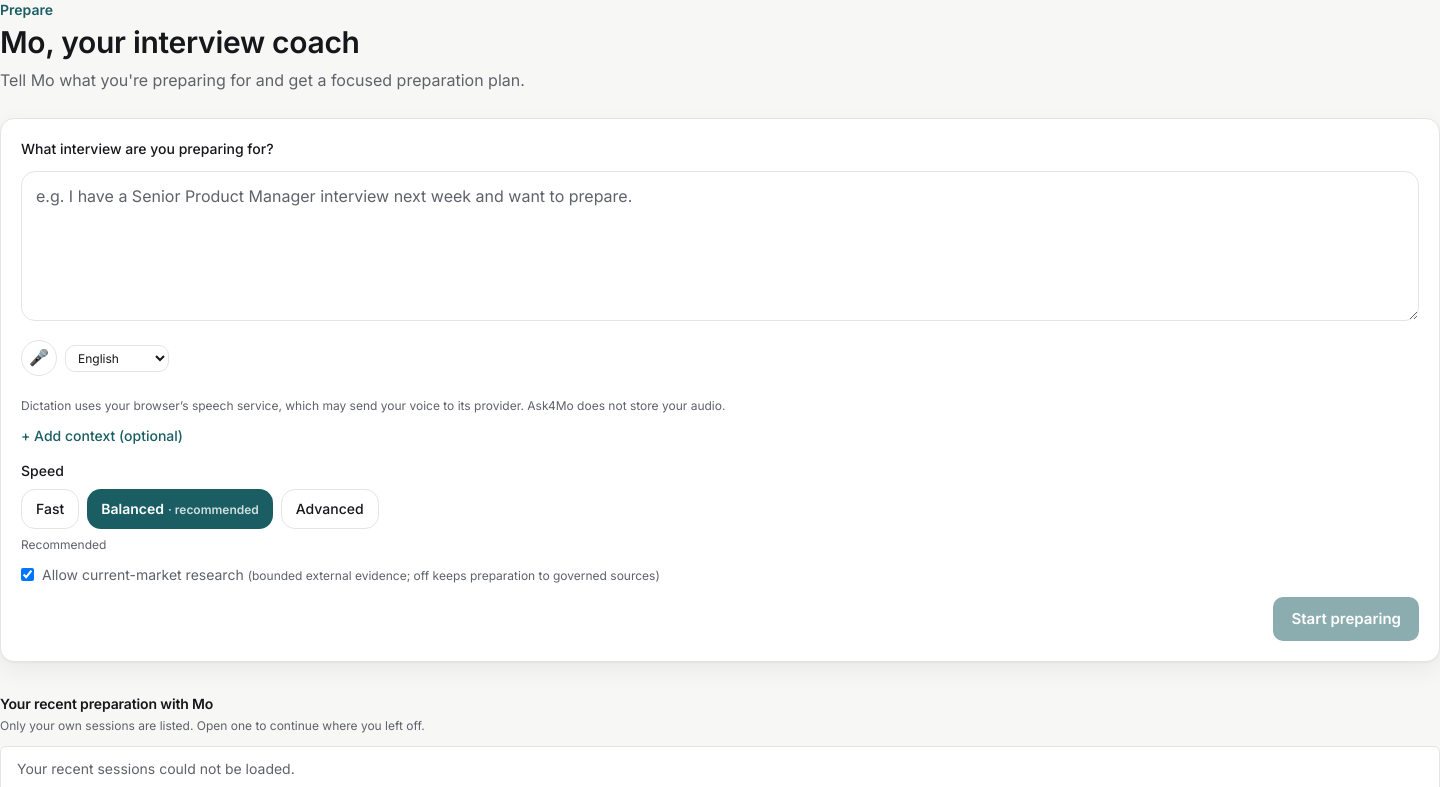
Test: Practice handoff completion › shows a busy label while the completion submits
In the text box labelled "What interview are you preparing for?": (720, 246) [21, 171, 1419, 321], type "Prep"
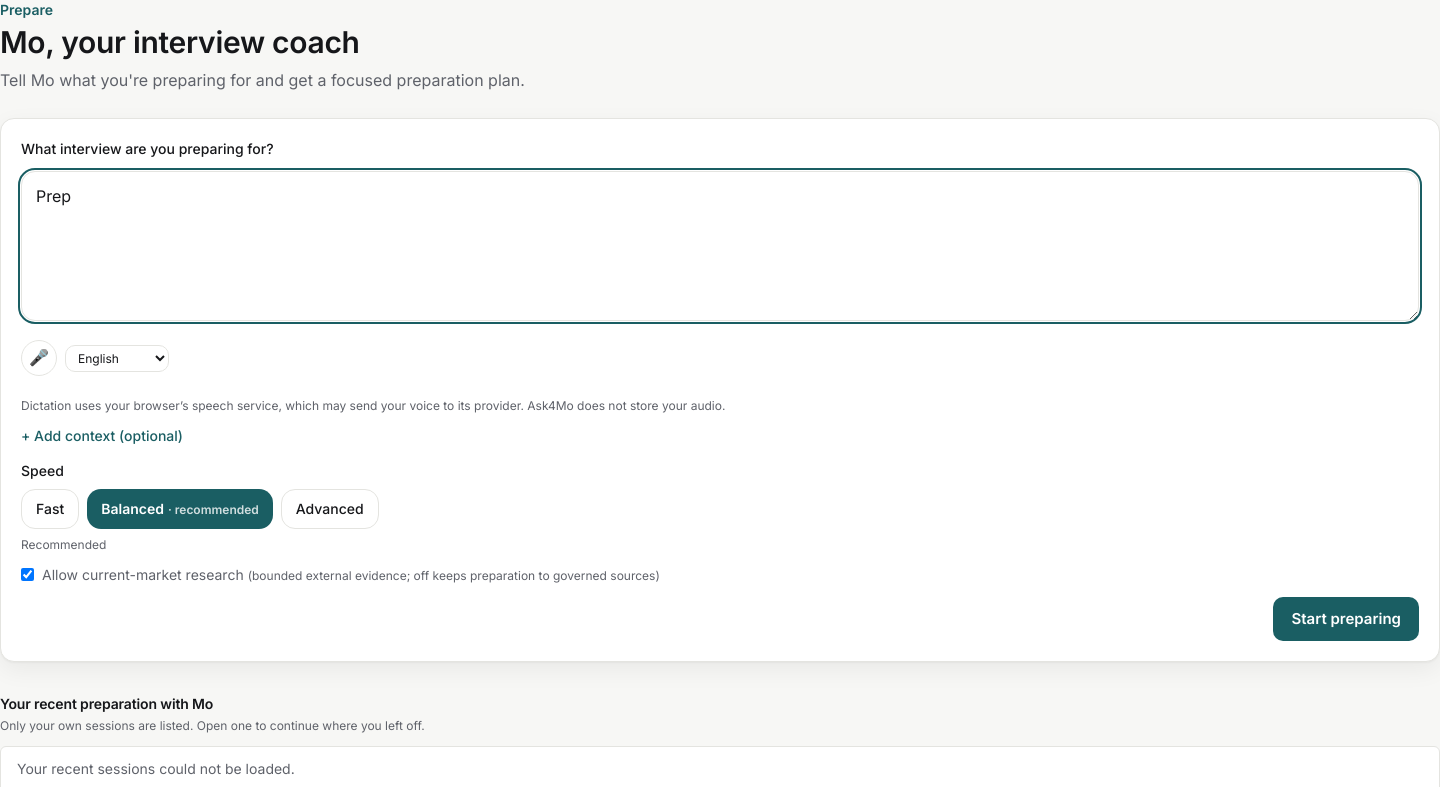
Click the button "Start preparing": (1346, 619) [1273, 597, 1419, 641]
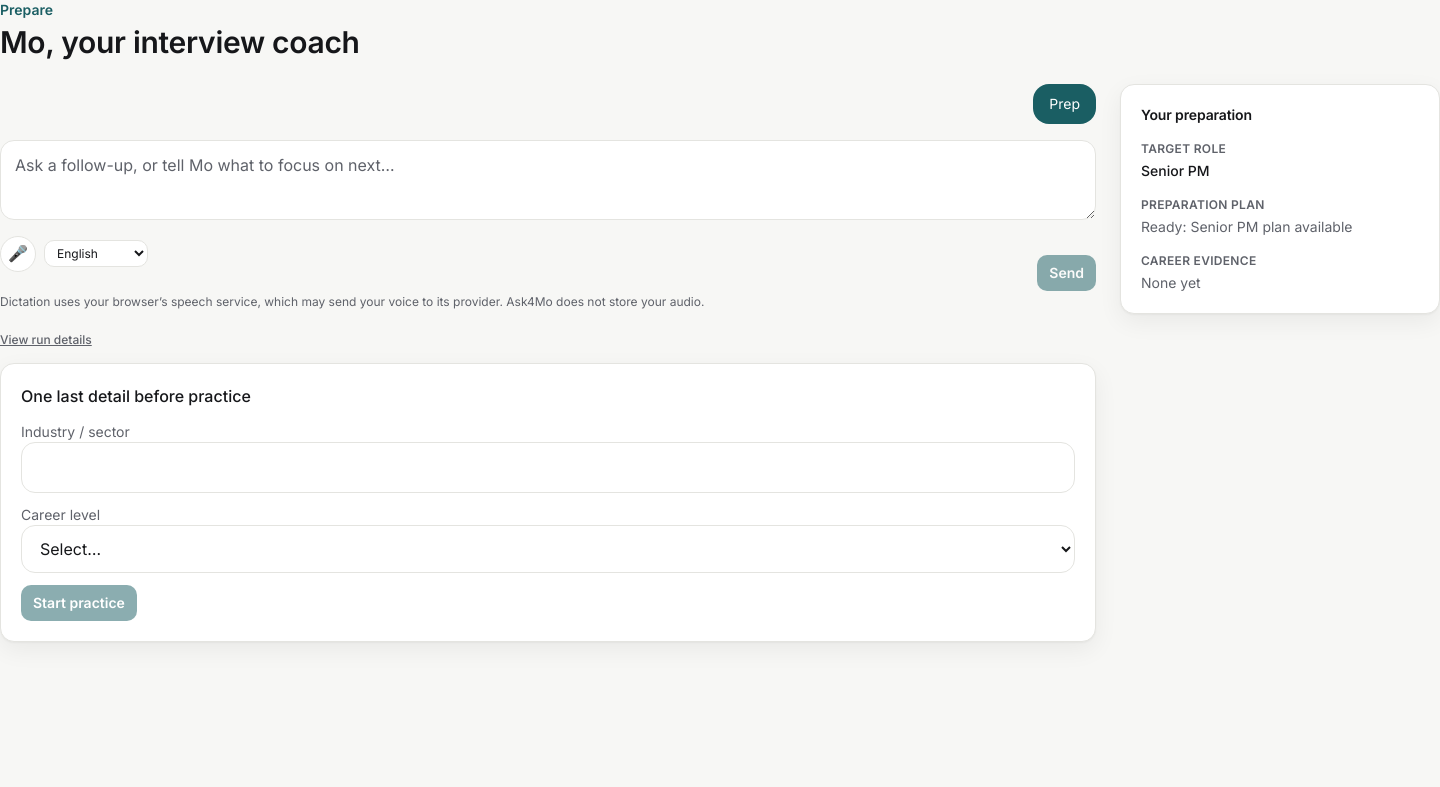
Expected: the text "One last detail before practice" is shown, [21, 386, 251, 406]
In the field labelled "Industry / sector": (548, 468) [21, 442, 1075, 493], type "Fashion"
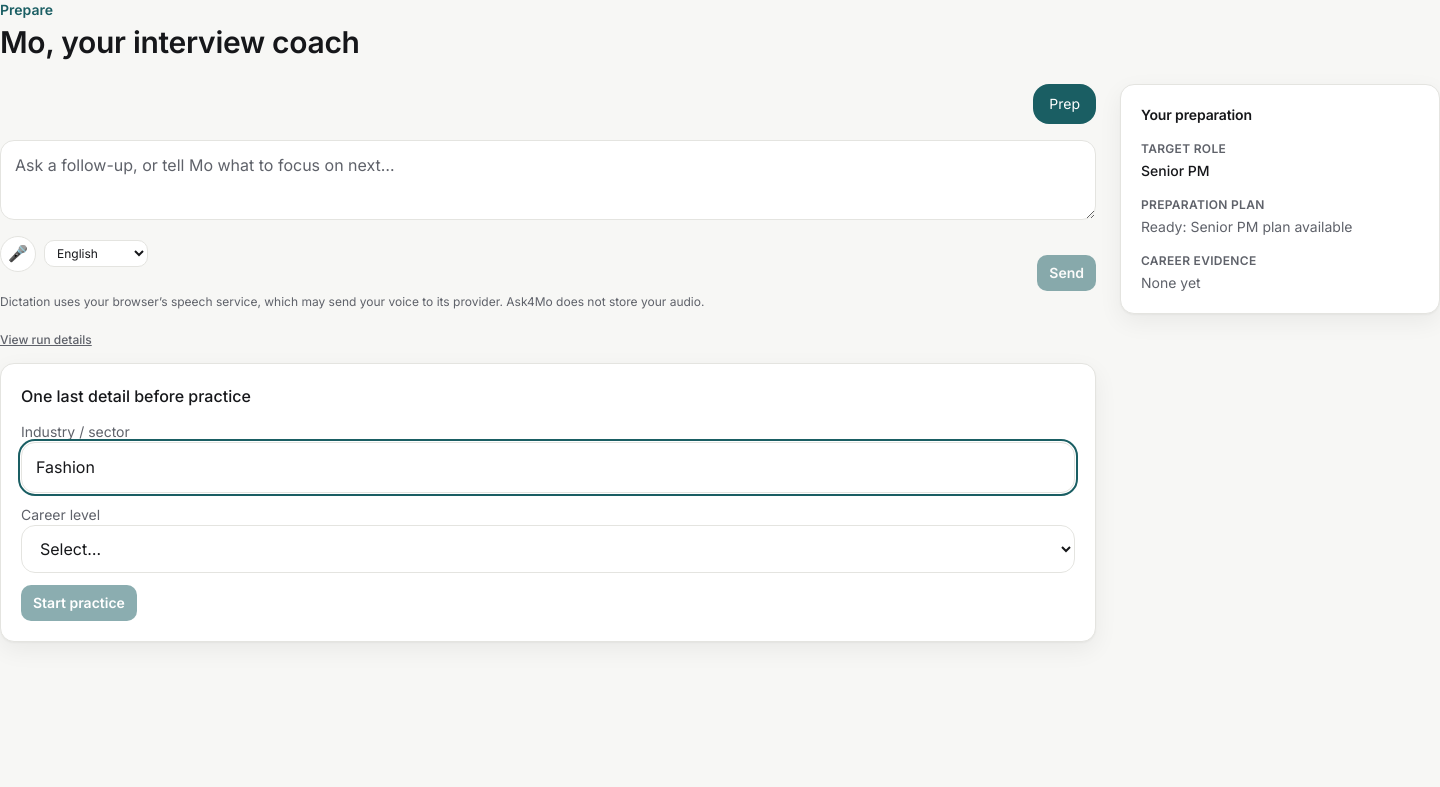
Select "executive" in the dropdown labelled "Career level": (548, 549) [21, 525, 1075, 573]
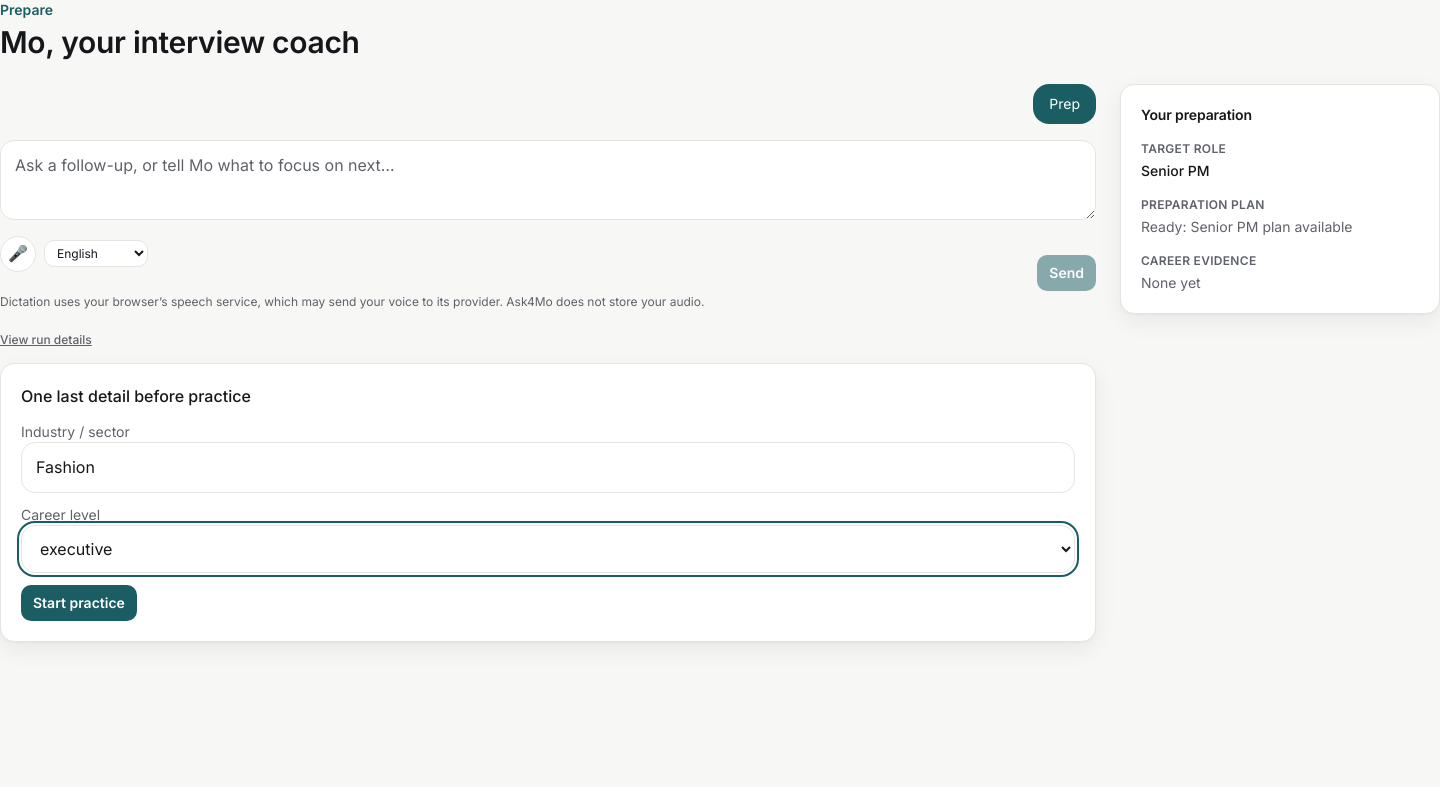
Click the button "Start practice": (79, 603) [21, 585, 137, 621]
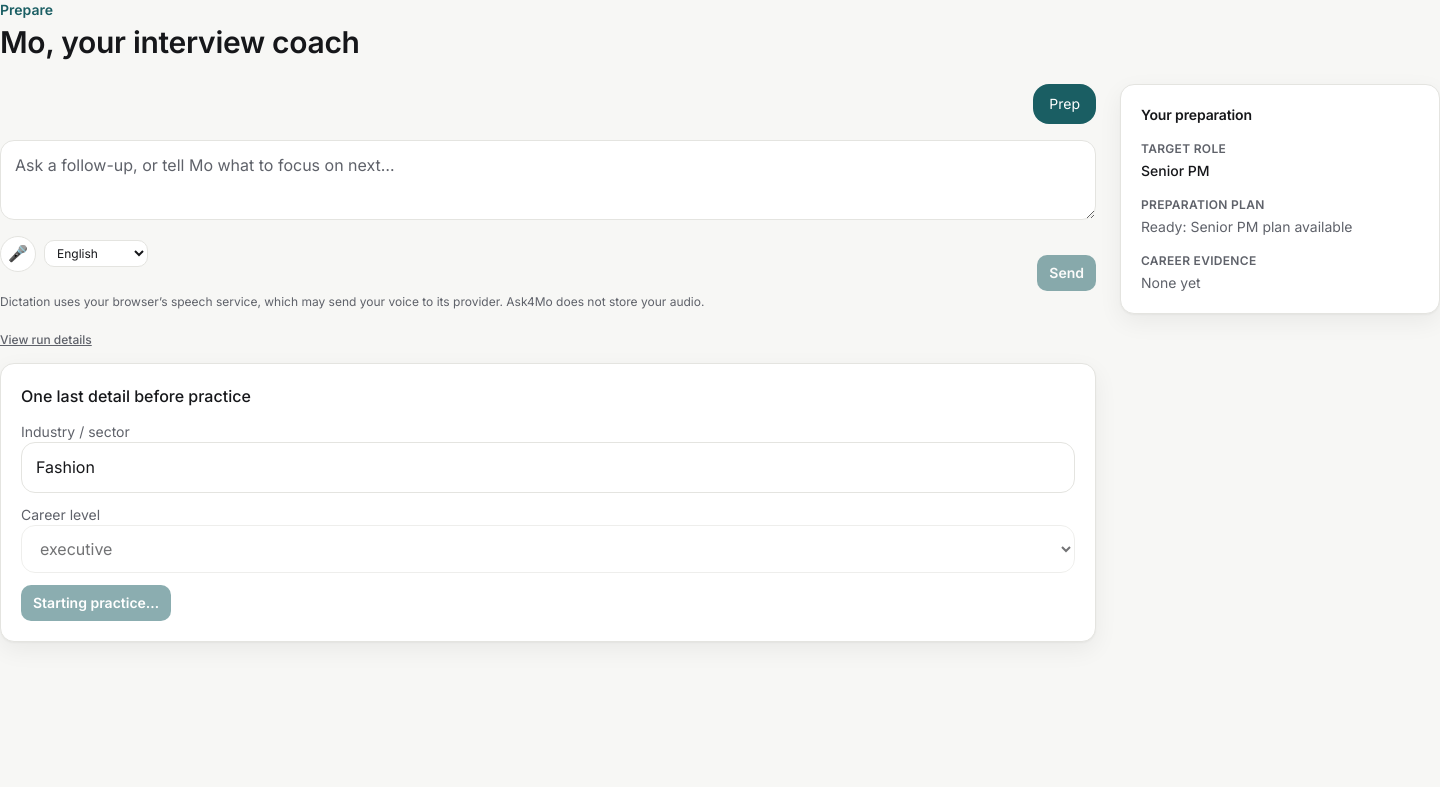
Expected: the button "Starting practice…" is disabled, [21, 585, 171, 621]
